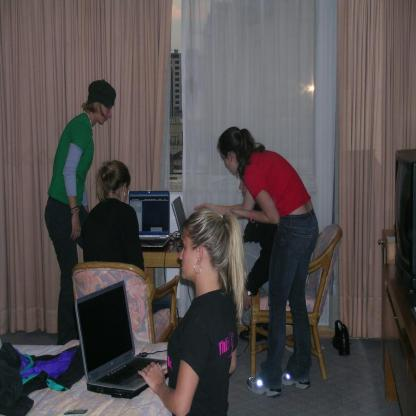board: (78, 291, 158, 399), (128, 190, 170, 250), (171, 196, 187, 236)
